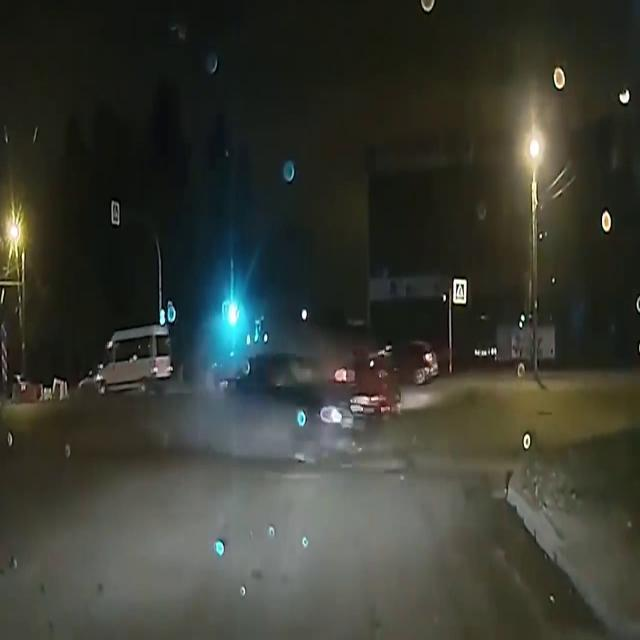accident: (216, 349, 404, 469)
